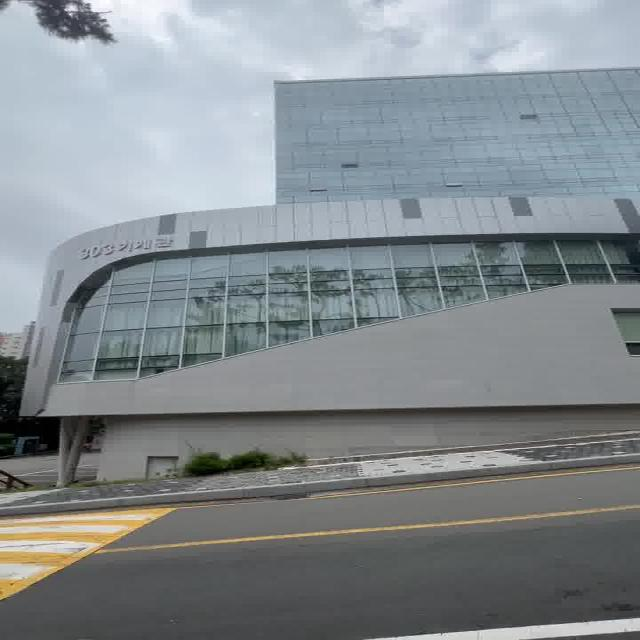building: (76, 68, 640, 413)
